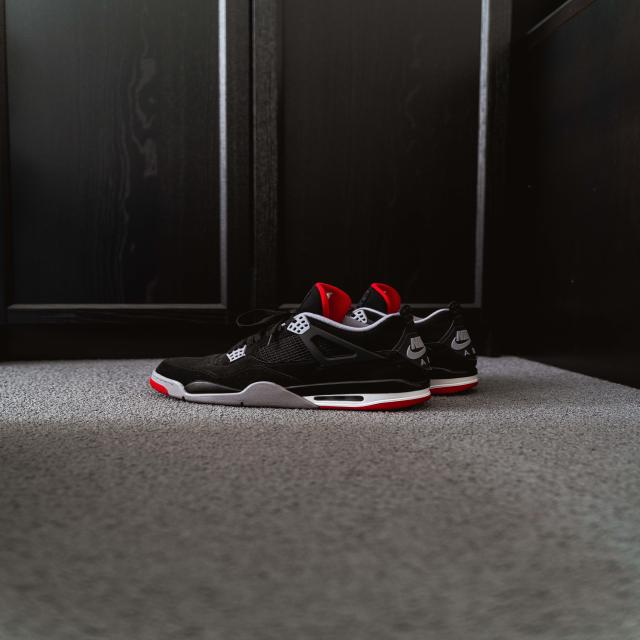shoe: (123, 282, 490, 411)
